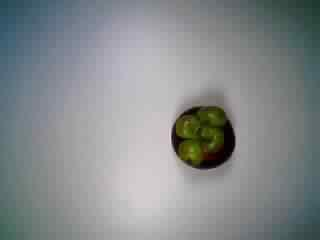mangosteen: (164, 98, 238, 170)
